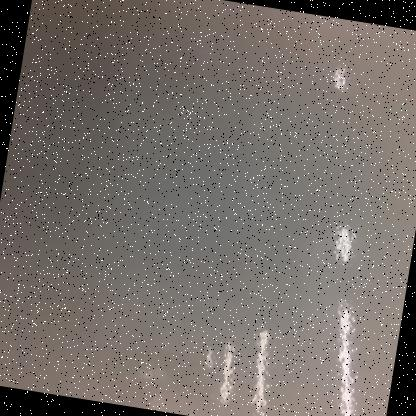Nocrack: (6, 0, 413, 415)
